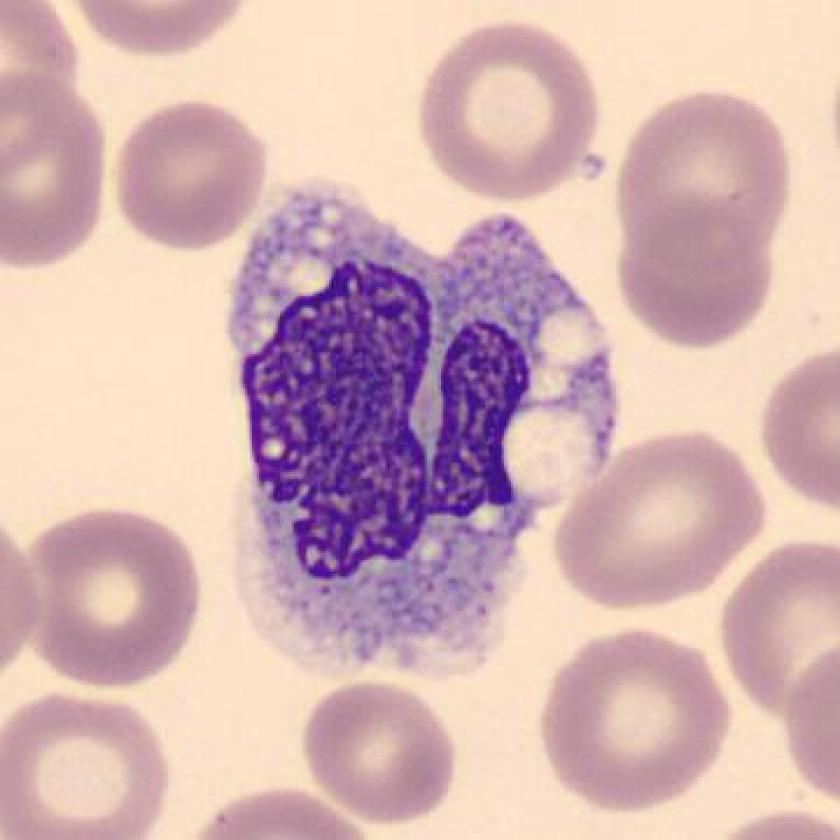monocyte: (206, 158, 638, 700)
